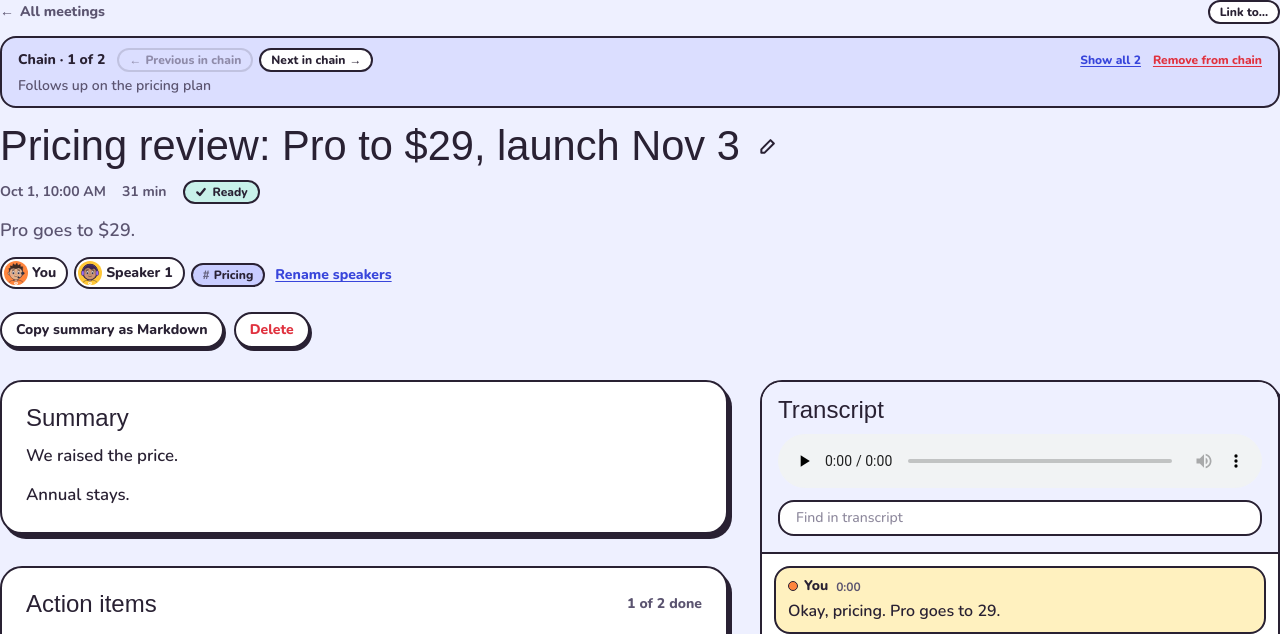
Test: Meeting navigation › Link to… › hides the chain's own meetings and says this one leaves it
Click the button "Link to…" at [1244, 12], box [1208,0,1279,24]
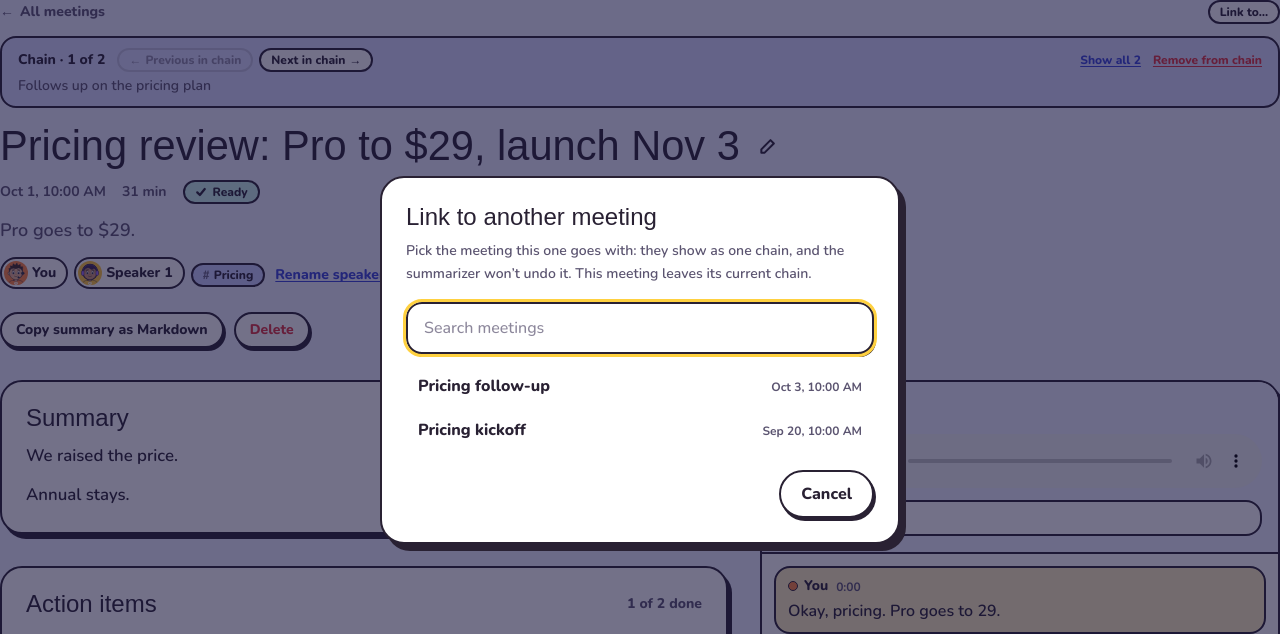
Expected: the dialog "Link to another meeting" shows "This meeting leaves its current chain.", [572,264,812,283]
